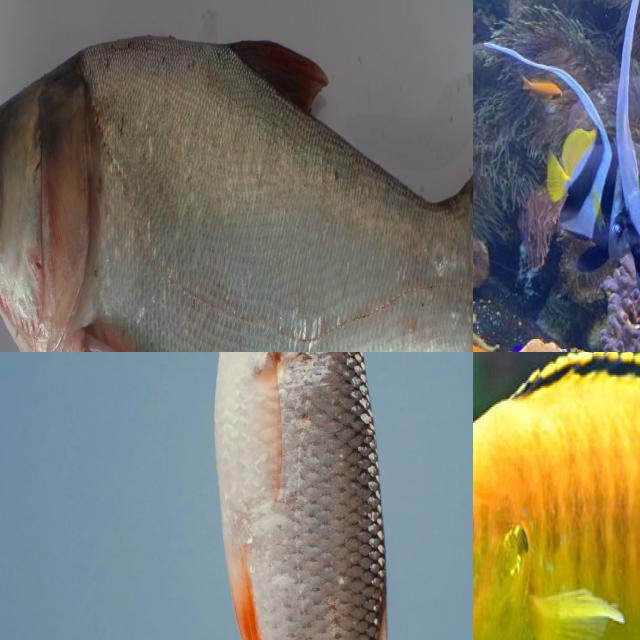fish: (0, 0, 473, 352), (1, 352, 473, 640), (473, 352, 640, 640)
